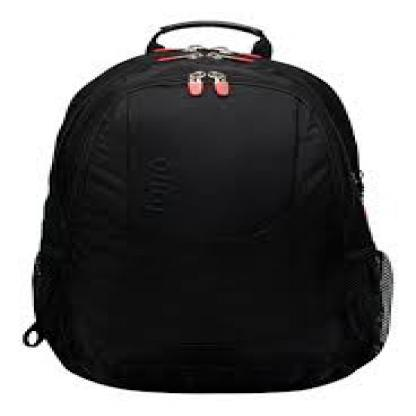morral: (11, 14, 407, 399)
